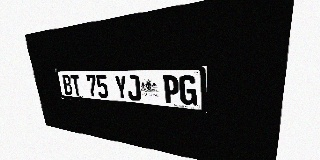5: (95, 75, 109, 98)
7: (86, 75, 99, 97)
B: (62, 75, 73, 95)
G: (179, 75, 197, 106)
J: (126, 75, 141, 101)
P: (162, 75, 179, 104)
T: (70, 75, 82, 96)
Y: (114, 75, 128, 100)
